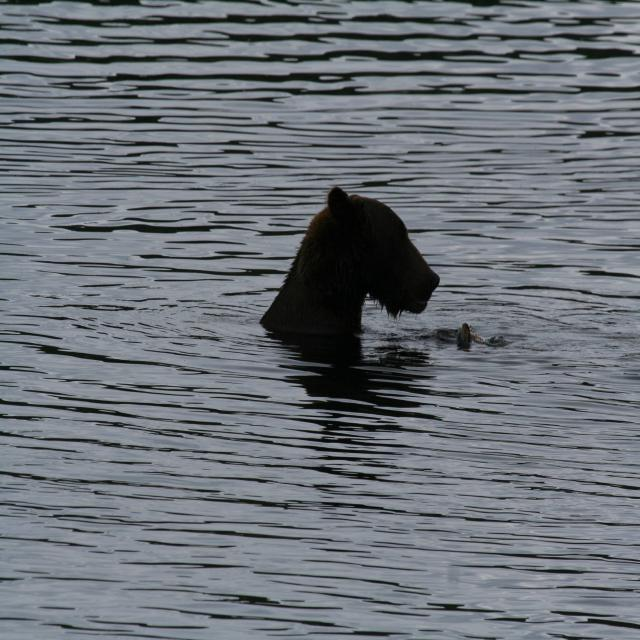bear face: (263, 187, 442, 343)
